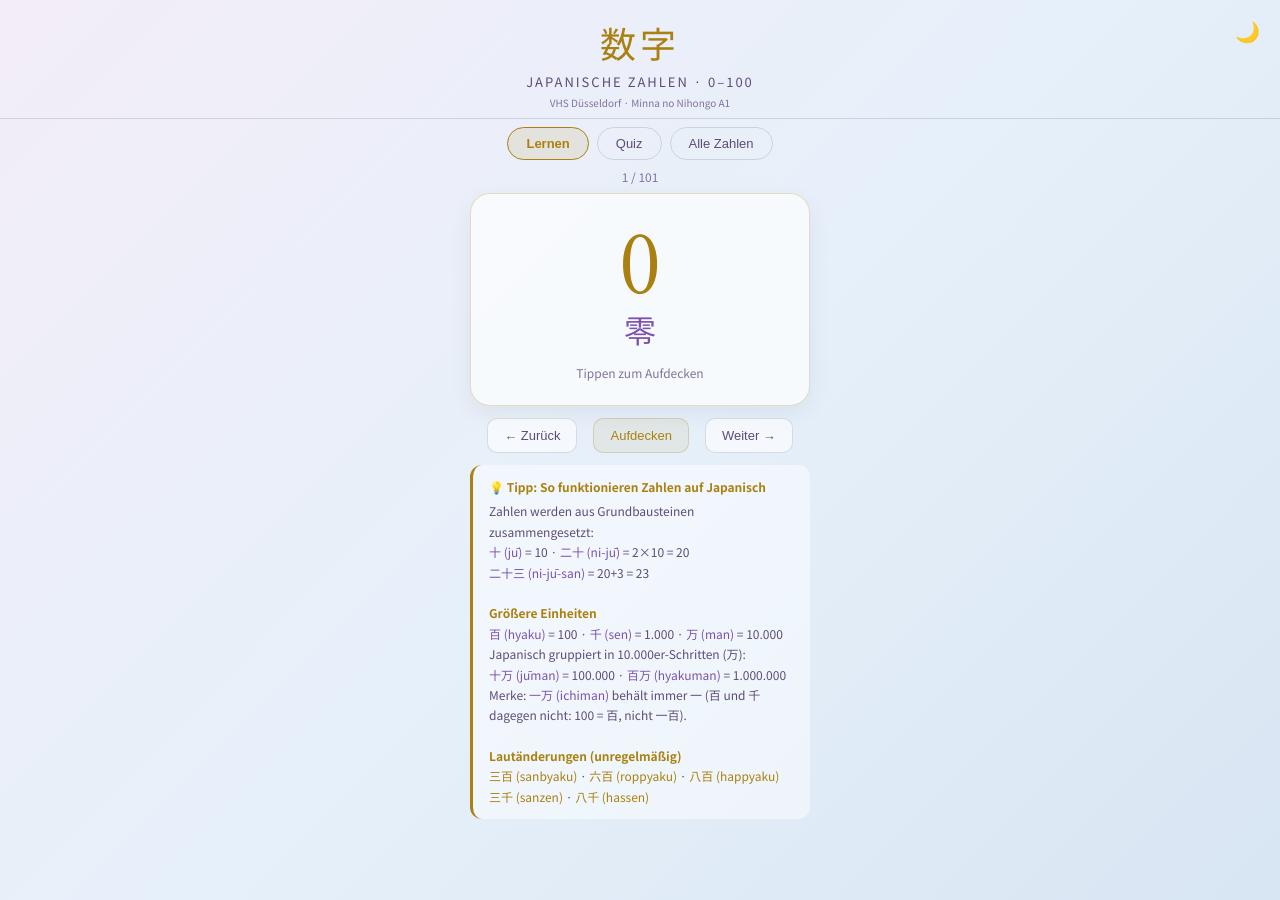
Test: Quiz interaction › counts a correct answer in both correct and total
Click the button "Quiz" at (629, 144), box [597,127,662,160]
Wait 3000 ms
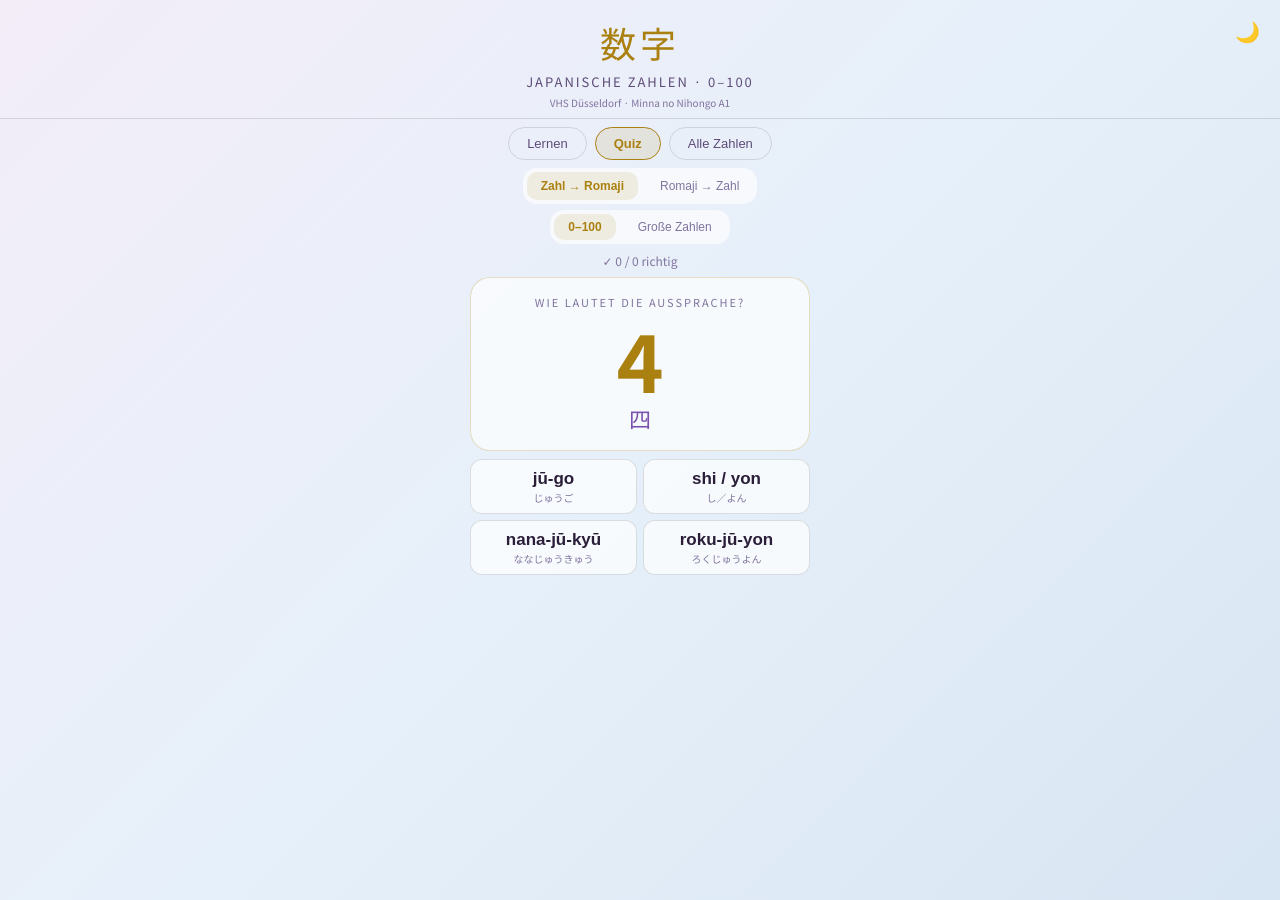
Click the button "shi / yon し／よん" at (726, 487), box [643,459,810,514]
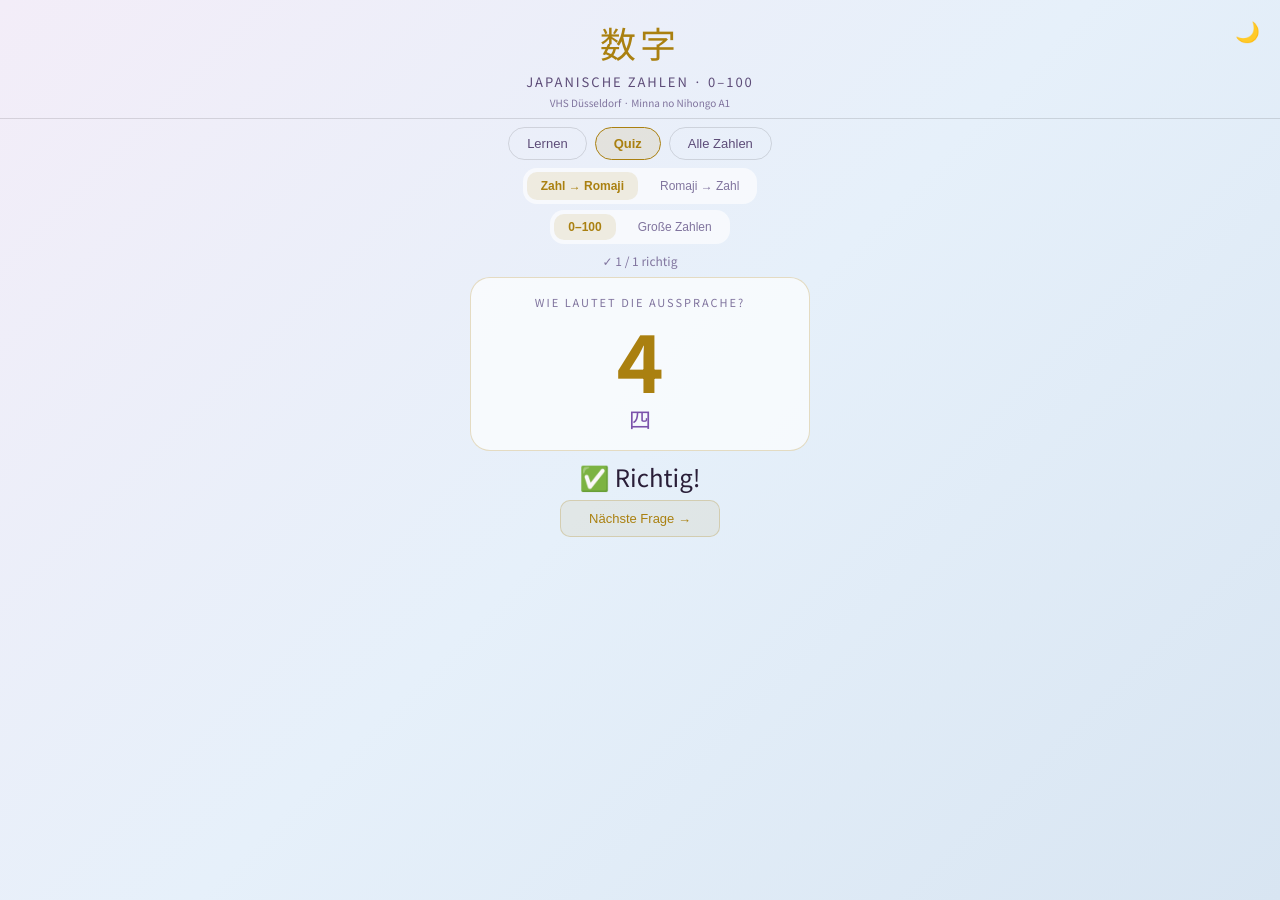
Now the text "✓ 1 / 1 richtig" is shown, box [603,252,677,269]
